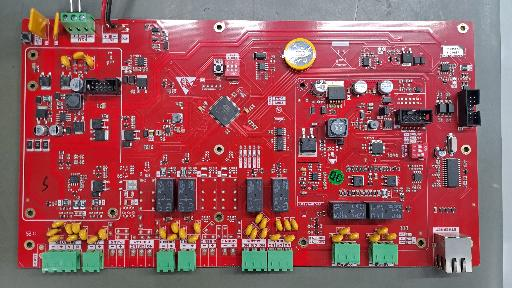var: (28, 7, 50, 39), (53, 12, 60, 40), (60, 55, 71, 67), (46, 228, 61, 236), (71, 222, 81, 234), (338, 226, 351, 235), (79, 228, 88, 241), (48, 235, 62, 243), (283, 234, 295, 243), (98, 228, 107, 240), (51, 221, 66, 228), (368, 234, 381, 242), (66, 234, 79, 242), (85, 56, 94, 67), (254, 213, 263, 224), (73, 51, 85, 59), (331, 234, 343, 242), (275, 219, 283, 231), (376, 227, 388, 235), (260, 227, 268, 239), (87, 236, 99, 244), (178, 227, 186, 239), (171, 222, 179, 234), (65, 223, 73, 235), (384, 233, 397, 240), (348, 232, 359, 240), (188, 235, 199, 243), (259, 218, 267, 229), (245, 225, 253, 236), (284, 219, 291, 231), (291, 219, 298, 231), (250, 227, 257, 239), (166, 234, 178, 241), (270, 234, 281, 241), (159, 228, 166, 239), (193, 222, 200, 233)
